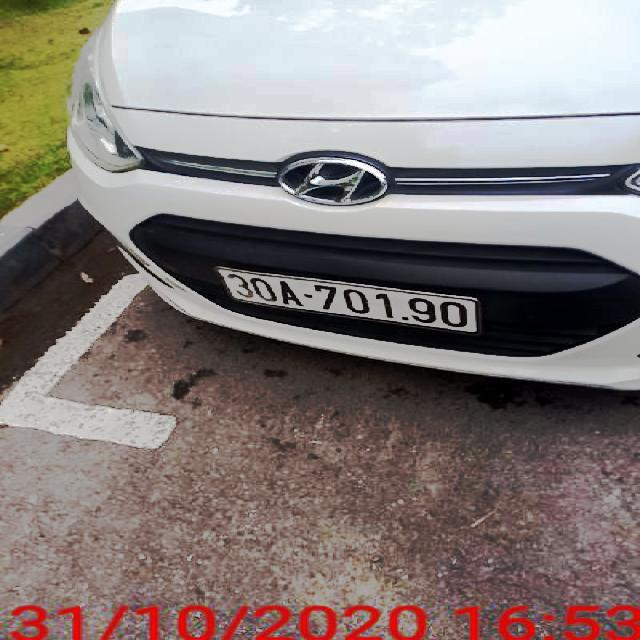license_plate: (218, 270, 478, 331)
